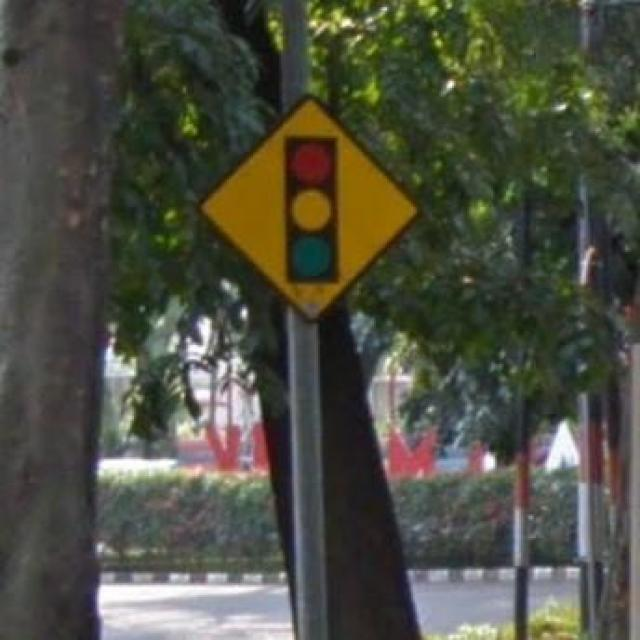traffic sign: (208, 99, 412, 313)
